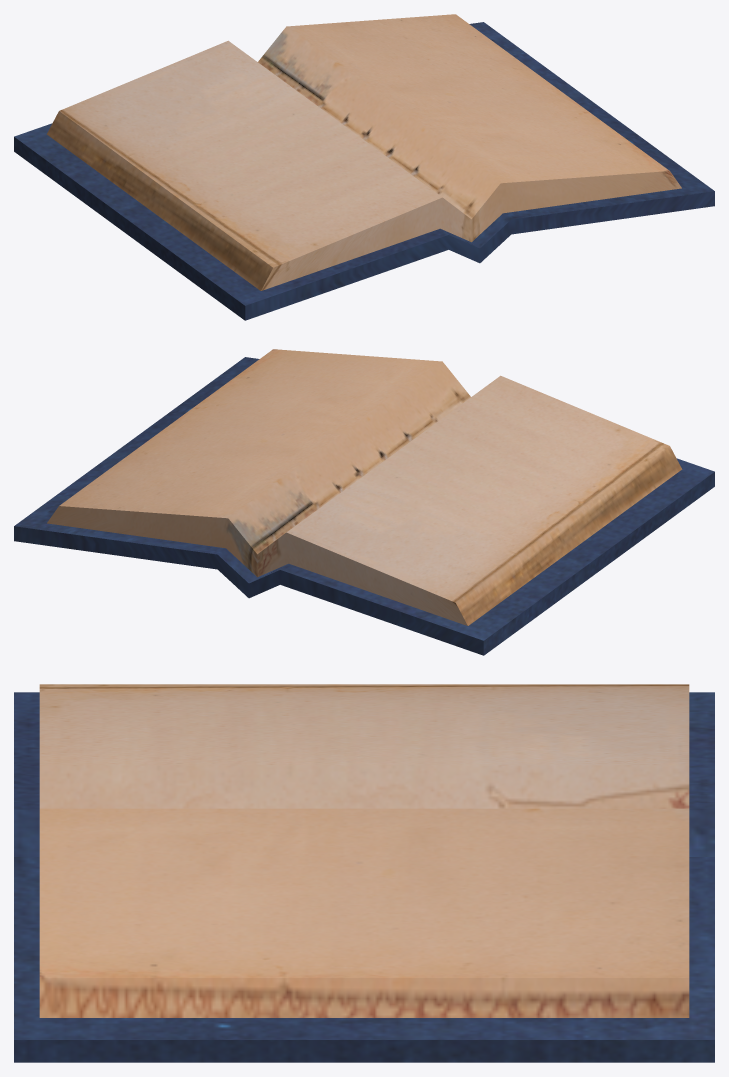
File: bookOpen02.fbx
The picture shows the model from 3 angles, top to bottom: view 1: azimuth 30°, elevation 25°; view 2: azimuth 150°, elevation 25°; view 3: azimuth 270°, elevation 25°; orthographic projection. The views are drawn at different scales.
Visible parts, largest first — view 1: pCube14; view 2: pCube14; view 3: pCube14.
Boxes of the visible parts, x1=… form: pCube14: x1=14, y1=14, x2=714, y2=320; pCube14: x1=14, y1=349, x2=714, y2=655; pCube14: x1=14, y1=684, x2=714, y2=1062.
Bounding box in the file's own units: 57.28 × 7.8 × 48.82.
